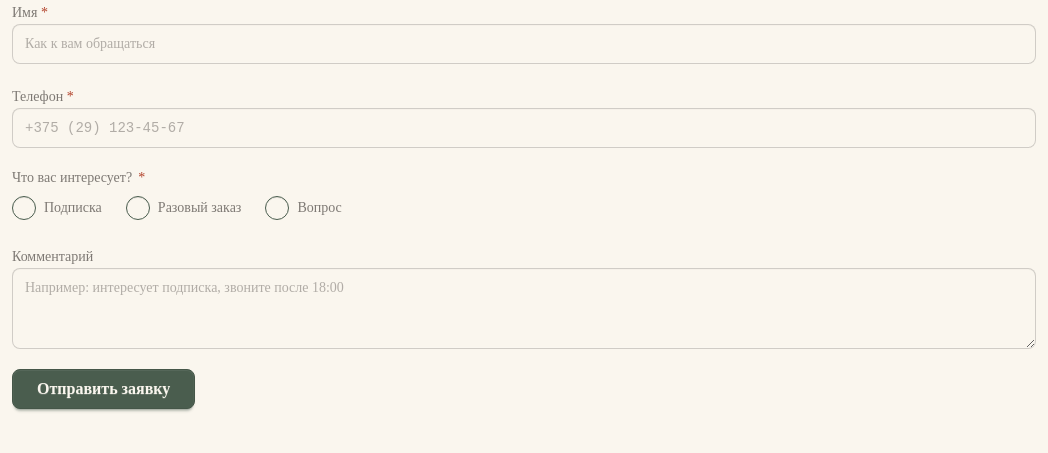
Test: RequestForm › shows a Russian phone hint without invoking the action
The width and height of the screenshot is (1048, 453).
Type "Мария" into the field labelled "Имя *" at [524, 44], box [12,24,1036,64]
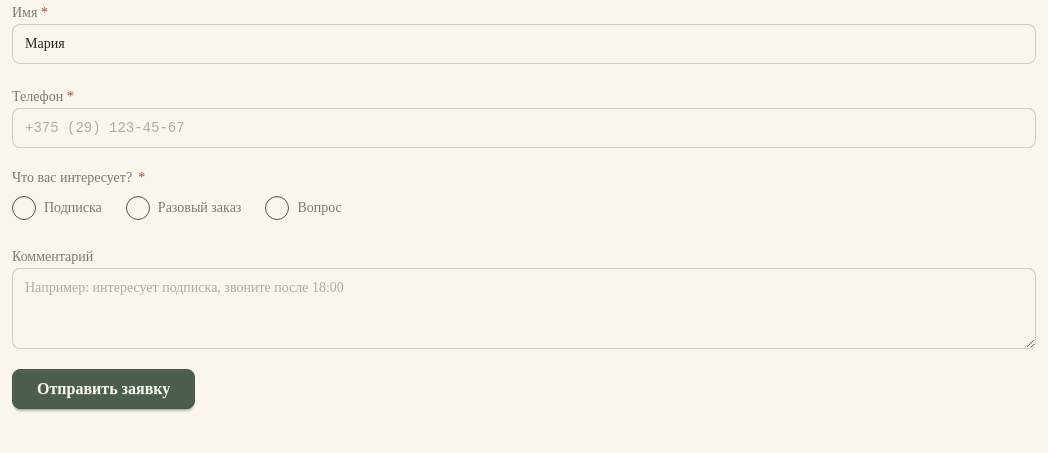
Click the radio button labelled "Подписка" at [24, 208], box [12,196,36,220]
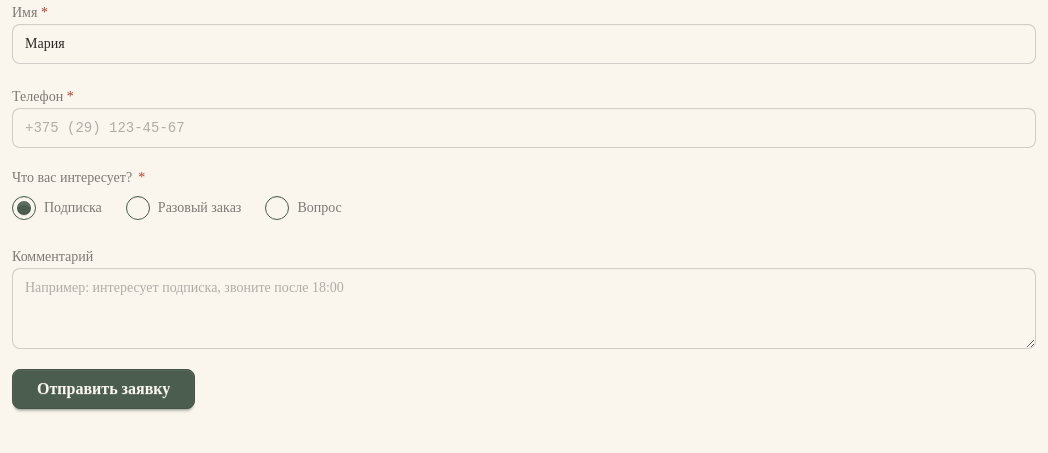
Type "12345" into the field labelled "Телефон *" at [524, 128], box [12,108,1036,148]
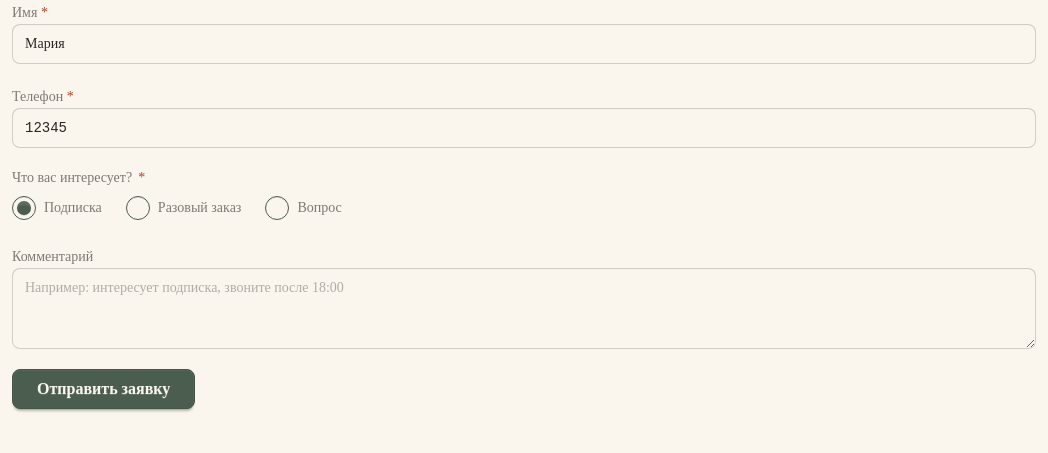
Click the button "Отправить заявку" at [104, 389], box [12,369,195,409]
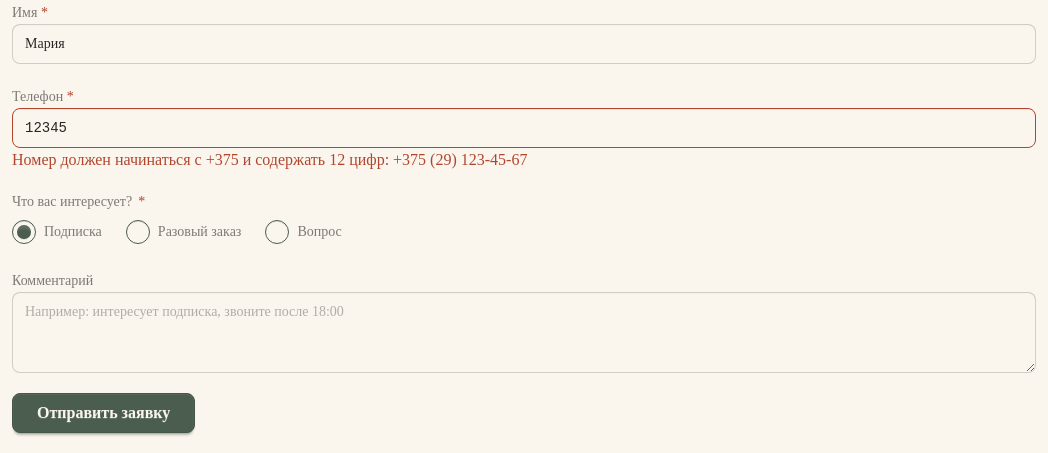
Expected: the text "Номер должен начинаться с +375" is shown, [12,151,527,168]
